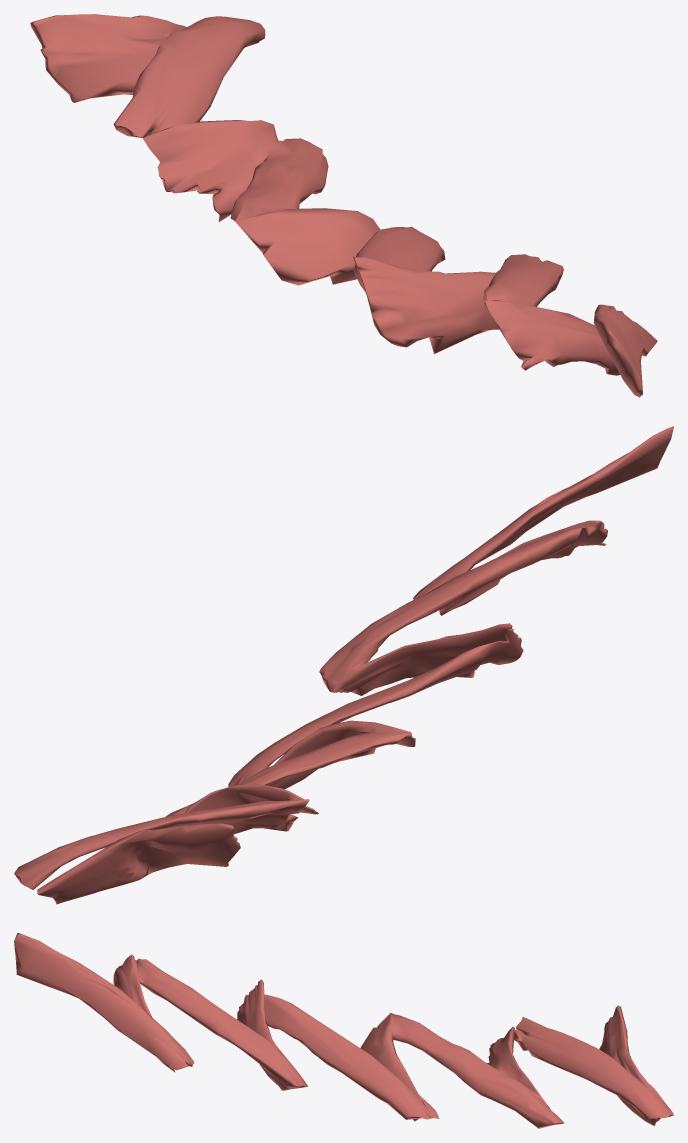
The picture shows the model from 3 angles, top to bottom: view 1: azimuth 30°, elevation 25°; view 2: azimuth 150°, elevation 25°; view 3: azimuth 270°, elevation 25°; orthographic projection. The views are drawn at different scales.
Visible parts, largest first — view 1: 左侧腰多裂肌; view 2: 左侧腰多裂肌; view 3: 左侧腰多裂肌.
Part boxes in pixels (x1,y1,x2,y2): 左侧腰多裂肌: [30, 14, 657, 397]; 左侧腰多裂肌: [14, 426, 673, 904]; 左侧腰多裂肌: [14, 933, 673, 1128].
Bounding box in the file's own units: 0.0628 × 0.0583 × 0.2379.
